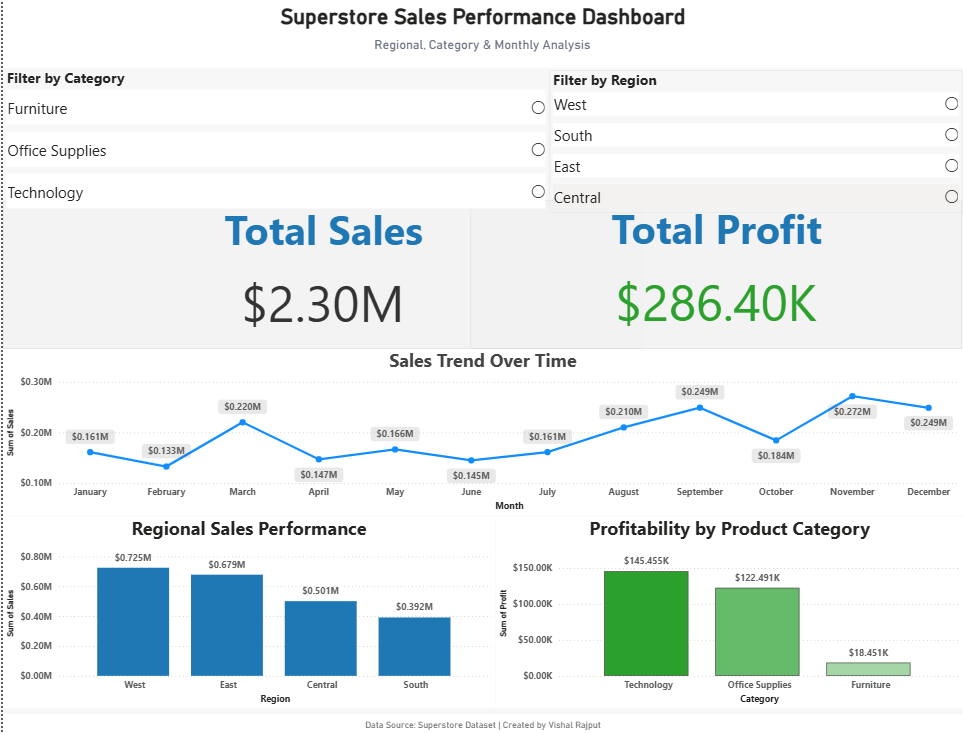

What the dashboard file says about the page in this screenshot:
{"tool":"powerbi","page":{"name":"Page 1","canvas":[1280,1000],"ordinal":0},"visuals":[{"type":"lineChart","title":"Monthly Sales Trend","fields":{"Y":["Sum(Superstore.Sales)"],"Category":["Superstore.Order Date.Variation.Date Hierarchy.Month"]},"box":[0,465.4,1280.8,215.4],"z":0},{"type":"clusteredColumnChart","title":"Sales by Region","fields":{"Category":["Superstore.Region"],"Y":["Sum(Superstore.Sales)"]},"box":[0,691.7,656.7,230],"z":1000},{"type":"clusteredColumnChart","title":"Profit by Category","fields":{"Category":["Superstore.Category"],"Y":["Sum(Superstore.Profit)"]},"box":[656.7,691.7,623.3,230],"z":2000},{"type":"card","title":"Total Sales","fields":{"Values":["Sum(Superstore.Sales)"]},"box":[0,268.3,853.3,196.7],"z":3000},{"type":"card","title":"Total Profit","fields":{"Values":["Sum(Superstore.Profit)"]},"box":[623.3,266.7,655,198.3],"z":4000},{"type":"textbox","box":[0,0,1280,90],"z":5000},{"type":"listSlicer","fields":{"Values":["Superstore.Region"]},"box":[728.3,93.3,551.7,191.7],"z":6000},{"type":"listSlicer","fields":{"Values":["Superstore.Category"]},"box":[0,90,728.3,195],"z":7000},{"type":"textbox","box":[0.8,45,1278.3,45],"z":8000},{"type":"textbox","box":[0,935,1280,65],"z":9000}]}

Visuals, with their boxes in screenshot pixels (x1, y1, x2, y2), scaled from the page's 1280x1000 canvas onto the 963x733 screenshot:
"Monthly Sales Trend" lineChart: 0:341:962:499
"Sales by Region" clusteredColumnChart: 0:507:494:676
"Profit by Category" clusteredColumnChart: 494:507:962:676
"Total Sales" card: 0:197:642:341
"Total Profit" card: 469:195:962:341
textbox: 0:0:962:66
listSlicer - Superstore.Region: 548:68:962:209
listSlicer - Superstore.Category: 0:66:548:209
textbox: 1:33:962:66
textbox: 0:685:962:732
